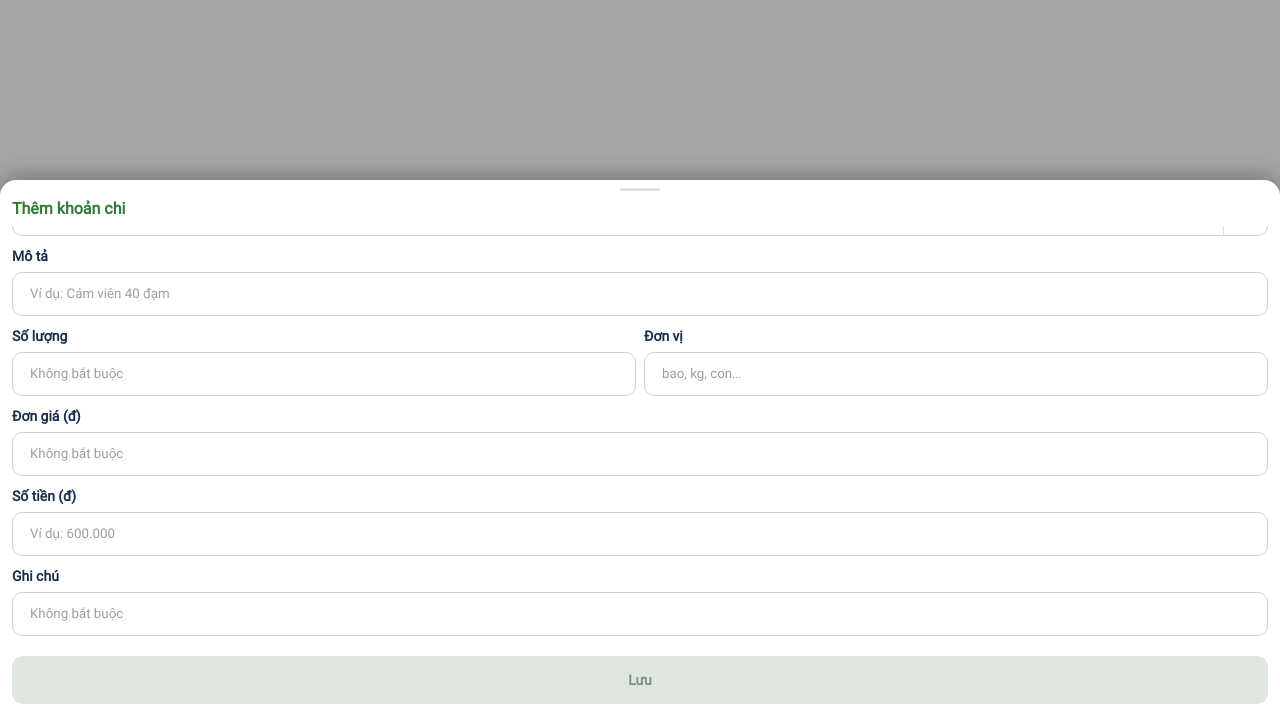
Test: đang gõ đơn giá và số tiền → tự thêm dấu . ngăn cách hàng nghìn
The width and height of the screenshot is (1280, 720).
(page scrolled)
In the field with id "expense-amount": (640, 534) x1=14 y1=514 x2=1267 y2=554, type "600000"
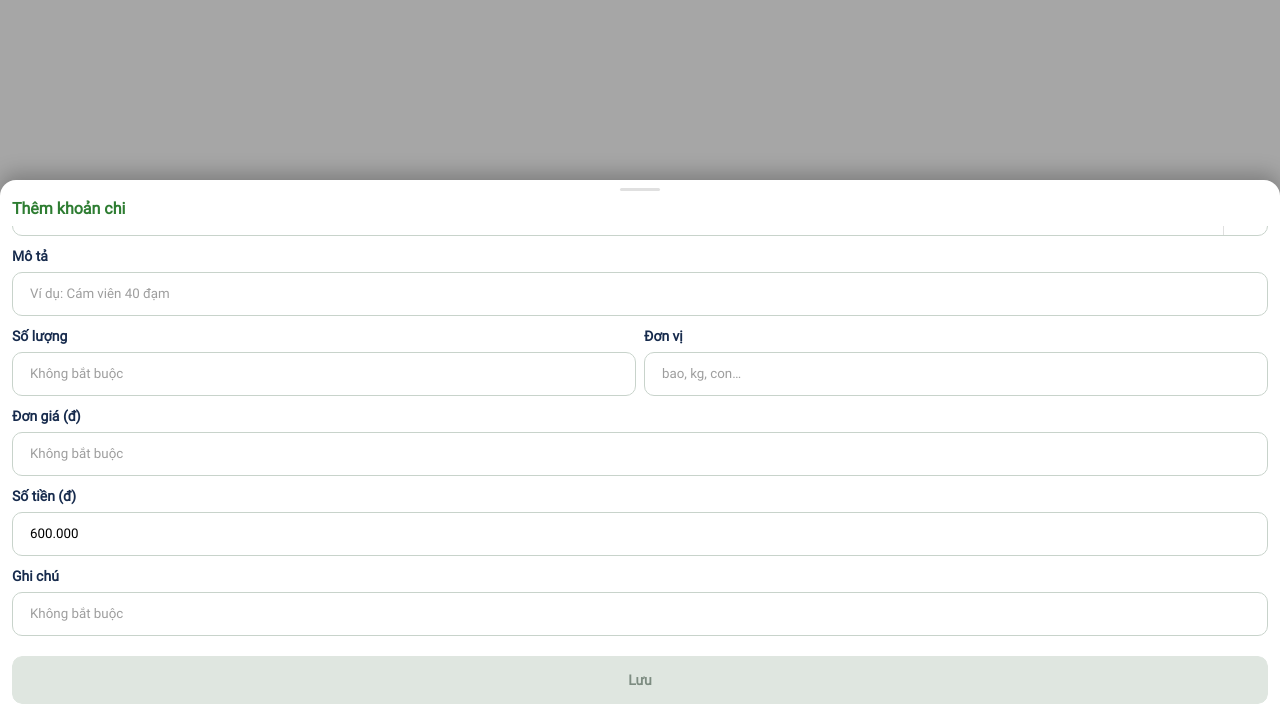
Now the field with id "expense-amount" holds "600.000", box x1=14 y1=514 x2=1267 y2=554
In the field with id "expense-unitPrice": (640, 454) x1=14 y1=434 x2=1267 y2=474, type "15000"
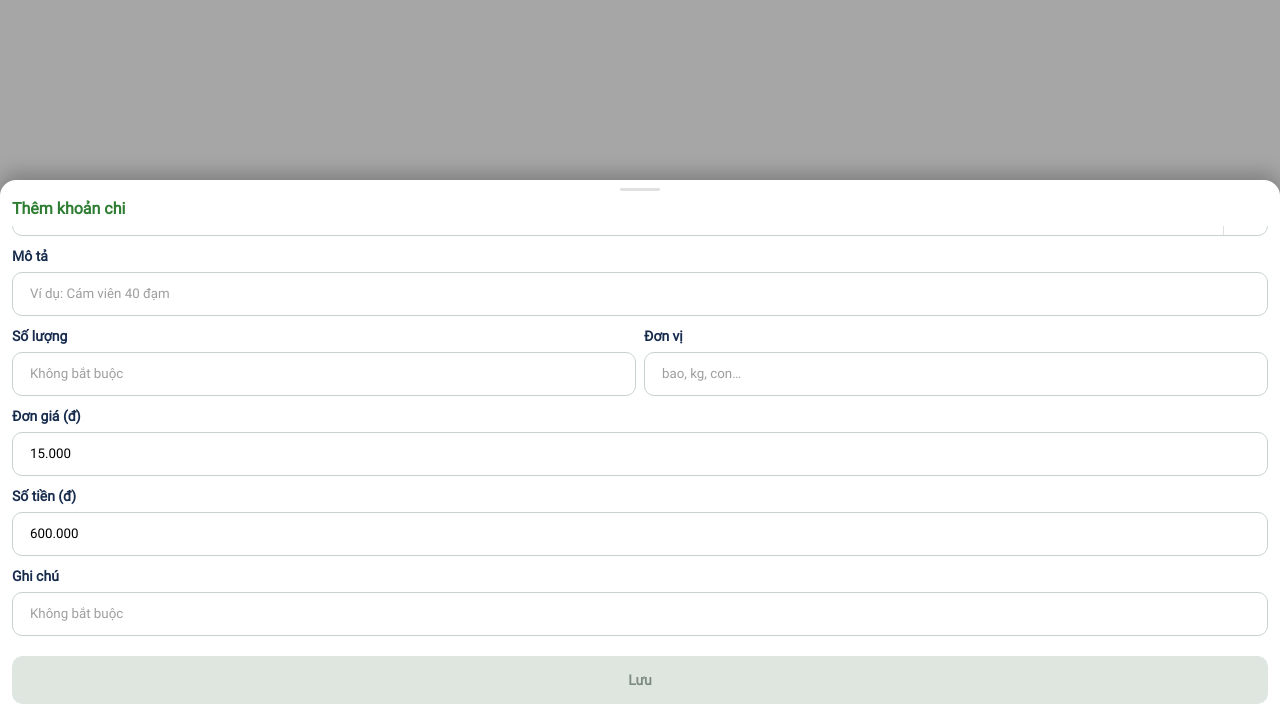
Now the field with id "expense-unitPrice" holds "15.000", box x1=14 y1=434 x2=1267 y2=474
